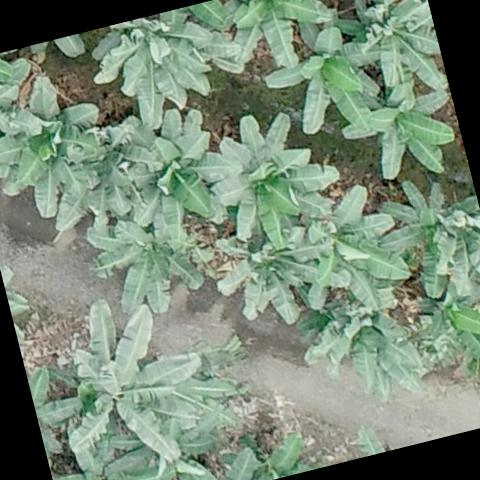Banana-plant: (37, 278, 219, 480), (195, 98, 355, 262), (85, 0, 250, 138), (254, 6, 388, 150), (0, 72, 118, 228), (290, 287, 427, 420), (289, 180, 417, 322), (367, 166, 480, 315), (82, 201, 208, 325), (337, 71, 464, 194), (106, 107, 227, 236), (206, 214, 323, 334), (347, 0, 448, 102), (220, 0, 348, 80), (44, 419, 177, 480), (408, 277, 480, 375), (0, 50, 34, 168)
